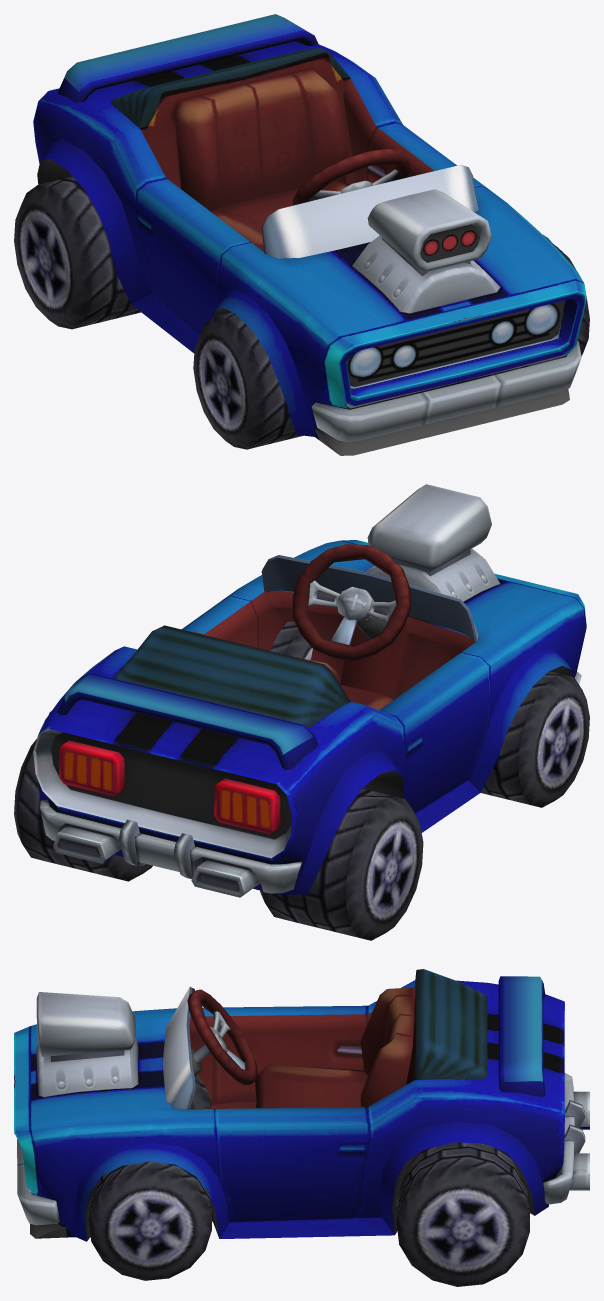
Rendered from boom_karts_muscle.glb.
The picture shows the model from 3 angles, top to bottom: view 1: azimuth 30°, elevation 25°; view 2: azimuth 150°, elevation 25°; view 3: azimuth 270°, elevation 25°; orthographic projection. The views are drawn at different scales.
Visible parts, largest first — view 1: kartModel, tireTest (1), tireTest (2); view 2: kartModel, tireTest (1), tireTest (2), tireTest, tireTest (3); view 3: kartModel, tireTest, tireTest (3), tireTest (2).
Boxes of the visible parts, x1=… form: kartModel: x1=33, y1=14, x2=586, y2=455; tireTest (1): x1=14, y1=176, x2=140, y2=329; tireTest (2): x1=193, y1=312, x2=303, y2=449; kartModel: x1=33, y1=484, x2=586, y2=897; tireTest (1): x1=260, y1=788, x2=423, y2=940; tireTest (2): x1=480, y1=671, x2=589, y2=807; tireTest: x1=14, y1=739, x2=152, y2=881; tireTest (3): x1=270, y1=621, x2=312, y2=659; kartModel: x1=14, y1=969, x2=589, y2=1241; tireTest: x1=396, y1=1142, x2=529, y2=1286; tireTest (3): x1=88, y1=1161, x2=211, y2=1280; tireTest (2): x1=190, y1=1074, x2=210, y2=1109.
Size of the model in its own units: 0.0155 by 0.0103 by 0.0246.
2 materials, 2 textured.
